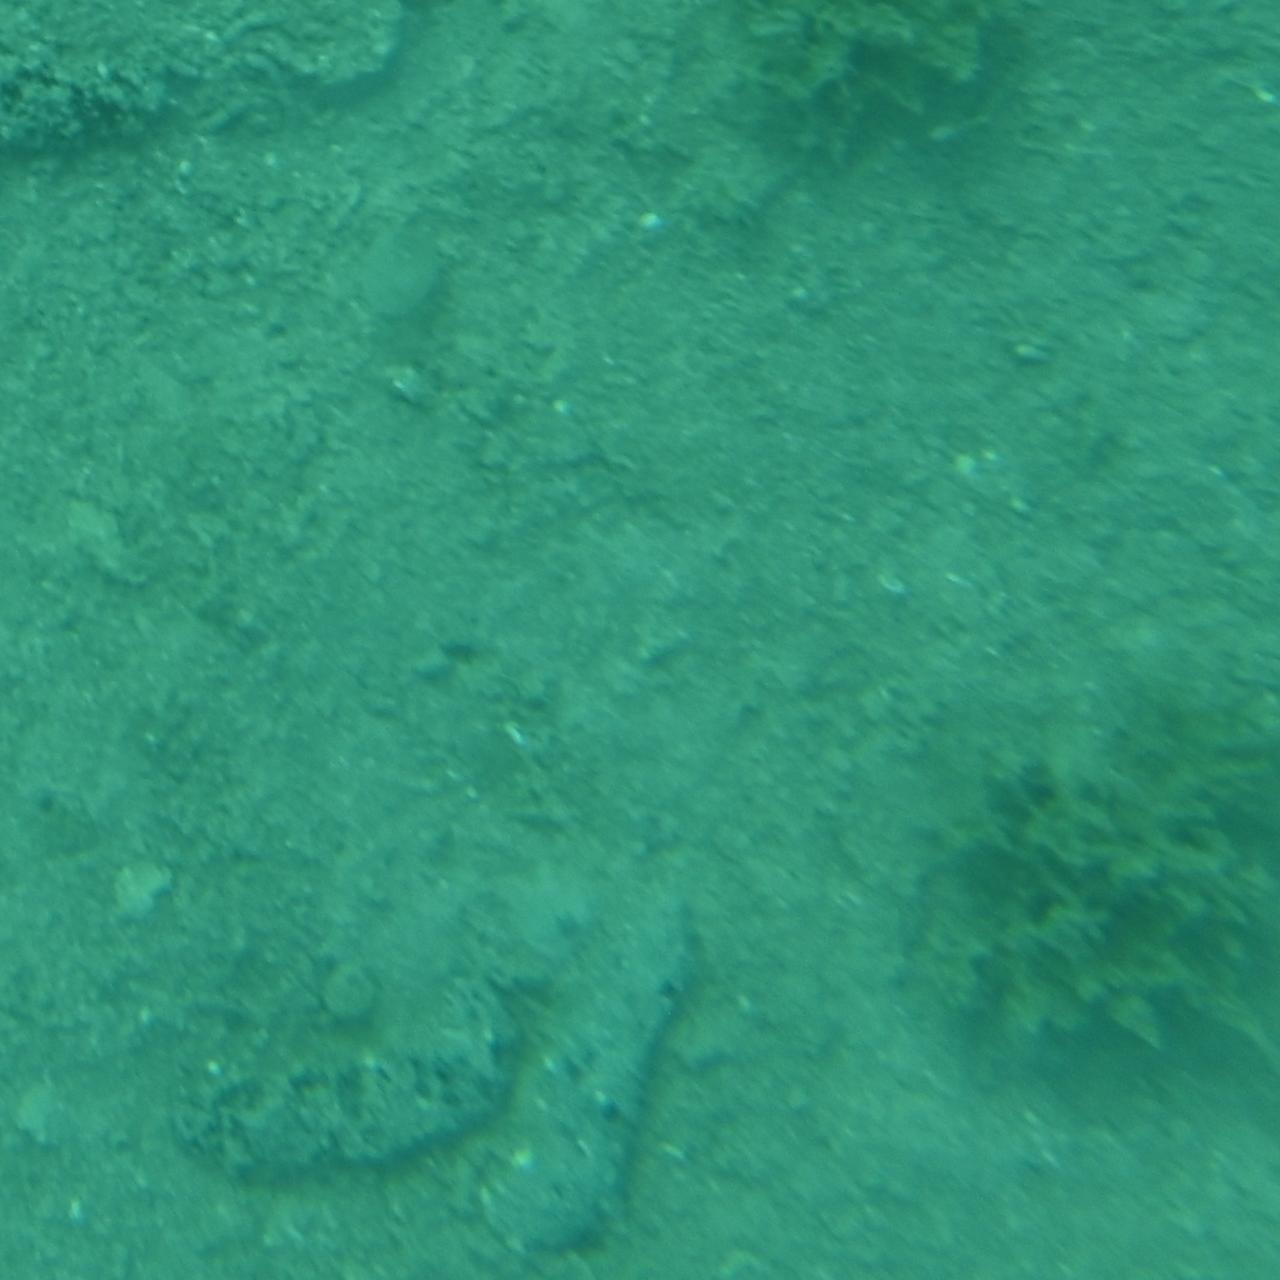Holothuria tubulosa: (0, 16, 451, 383), (435, 887, 742, 1267), (161, 967, 515, 1193)
Phaeophyceae -cfr Cystoseira-: (935, 642, 1280, 1104)
